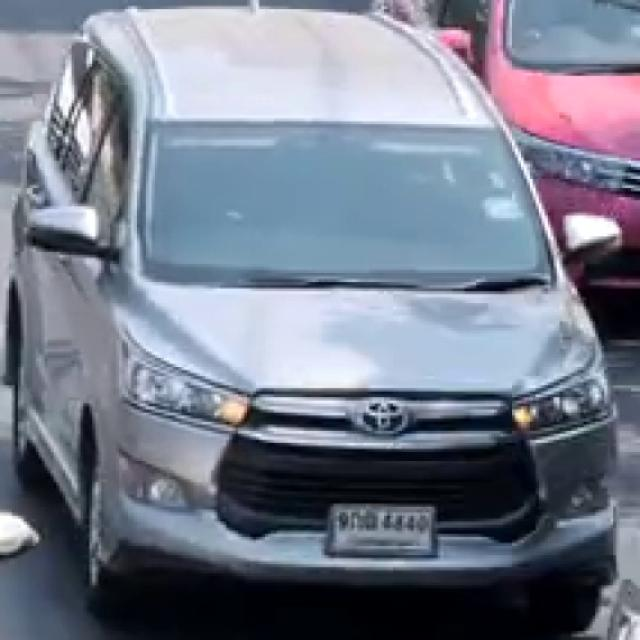plate: (328, 502, 434, 558)
